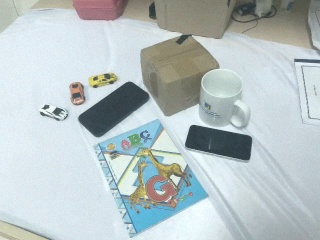book: (88, 114, 211, 237)
box: (139, 34, 221, 117), (151, 1, 239, 39)
cup: (197, 68, 253, 131)
phone: (78, 80, 151, 139), (185, 126, 253, 163)
toy_car: (39, 103, 69, 121), (89, 72, 118, 88), (69, 82, 86, 106)
